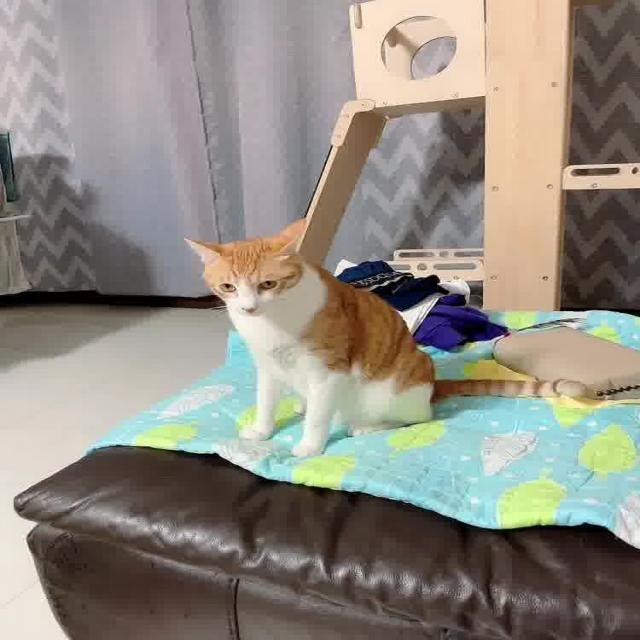cat: (177, 214, 592, 460)
